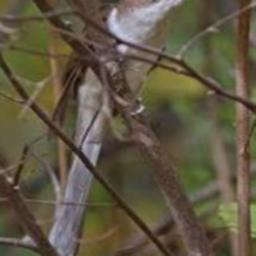Cuckoo: (45, 0, 198, 253)
